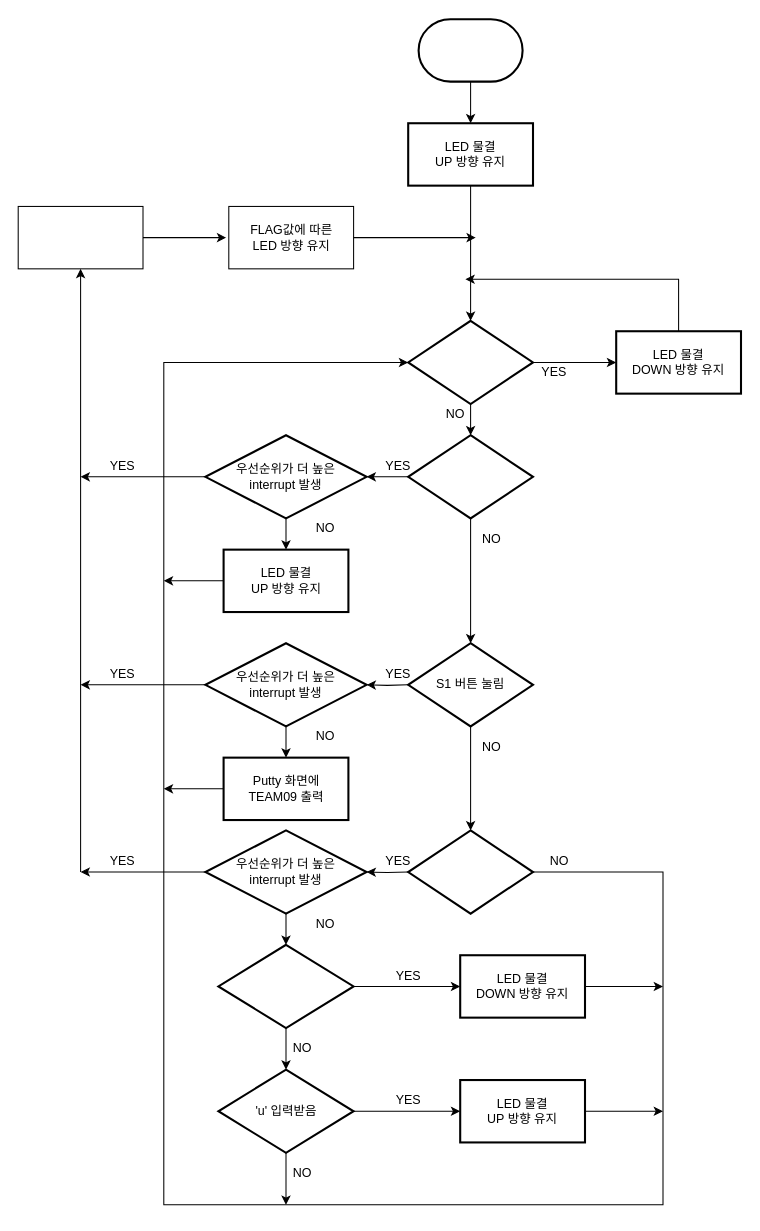
This 760x1231 diagram has some shape labels left out. The box of each missing label's shape, as (x1, y1, x2, y2) in pixels:
'd' 입력받음: (217, 943, 354, 1029)
Interrupt Handler에 의해 FLAG값 변경: (17, 205, 143, 269)
Putty에서 data 입력받음: (407, 829, 534, 914)
START: (417, 18, 523, 82)
조이스틱 DOWN: (407, 319, 534, 405)
조이스틱 UP: (407, 434, 534, 519)
